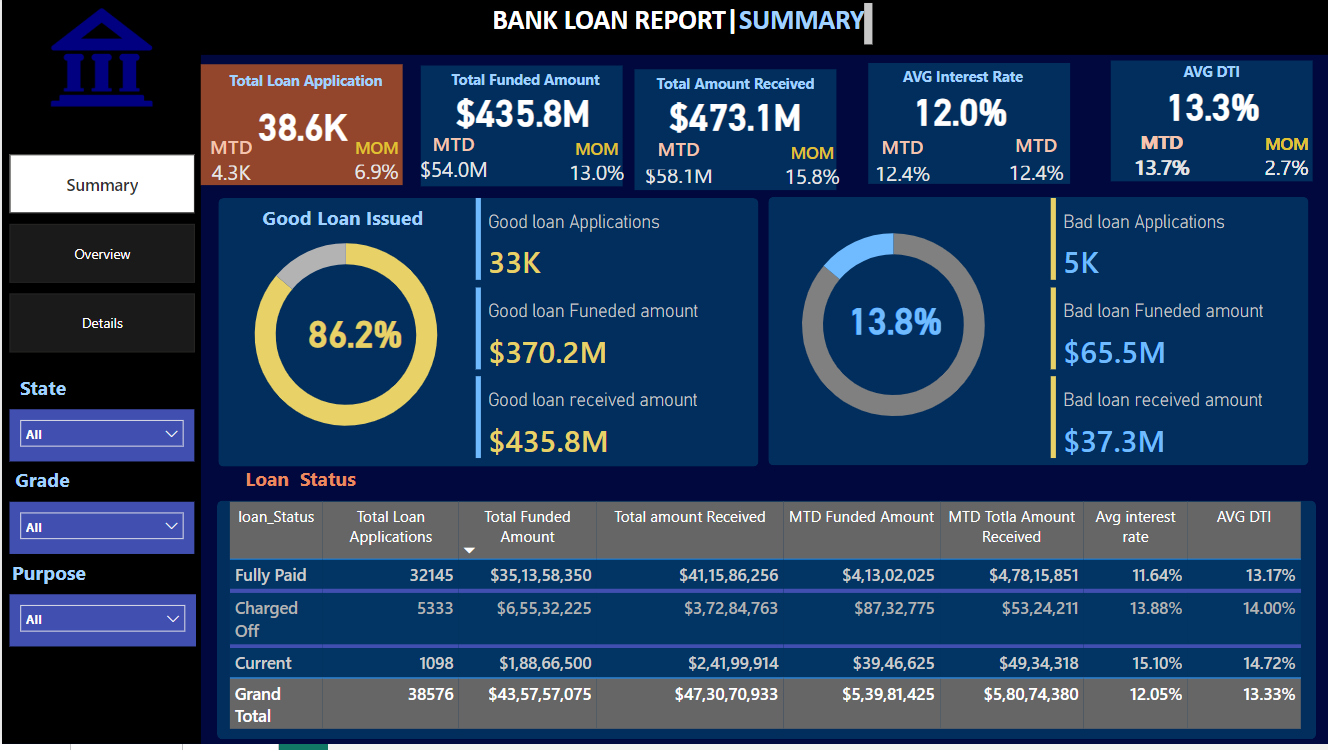

This screenshot's page, from the dashboard's own definition file:
{"tool":"powerbi","page":{"name":"Summary","canvas":[1280,720],"ordinal":0},"visuals":[{"type":"shape","box":[0,54.9,192,665.5],"z":0},{"type":"shape","box":[1070.4,60.4,194.9,116.6],"z":0,"group":"g3"},{"type":"shape","box":[836.2,63.1,194.9,116.6],"z":0,"group":"g4"},{"type":"shape","box":[192.1,64.5,194.9,116.6],"z":0,"group":"g1"},{"type":"shape","box":[404.6,65.8,194.9,116.6],"z":0,"group":"g2"},{"type":"shape","box":[609.9,69.6,194.9,116.6],"z":0,"group":"g5"},{"type":"card","fields":{"Values":["bank_loan_data.AVG DTI"]},"box":[1097.3,54.2,144.1,97.4],"z":1000,"group":"g3"},{"type":"card","fields":{"Values":["bank_loan_data.Avg interest rate"]},"box":[853.1,59.4,144.1,97.4],"z":1000,"group":"g4"},{"type":"card","fields":{"Values":["bank_loan_data.Total Funded Amount"]},"box":[429.8,59.6,146.8,98.8],"z":1000,"group":"g2"},{"type":"card","fields":{"Values":["bank_loan_data.Total amount Received"]},"box":[634.9,64.5,144.1,97.4],"z":1000,"group":"g5"},{"type":"card","fields":{"Values":["bank_loan_data.Total Loan Applications"]},"box":[218.2,74.1,144.1,97.4],"z":1000,"group":"g1"},{"type":"shape","box":[208.6,193.5,521.4,259.3],"z":1000},{"type":"textbox","box":[1055.8,57.1,223.7,37],"z":2000,"group":"g3"},{"type":"textbox","box":[815.7,61.6,223.7,37],"z":2000,"group":"g4"},{"type":"textbox","box":[393.9,64.6,223.7,37],"z":2000,"group":"g2"},{"type":"textbox","box":[193.3,65.2,200.3,41.2],"z":2000,"group":"g1"},{"type":"textbox","box":[595.5,68.6,223.7,37],"z":2000,"group":"g5"},{"type":"cardVisual","fields":{"Data":["bank_loan_data.Good loan Applications","bank_loan_data.Good loan Funeded amount","bank_loan_data.Good loan received amount"]},"box":[452.8,188,270.3,262.1],"z":2000},{"type":"card","title":"MTD","fields":{"Values":["bank_loan_data.MTD avg DTI"]},"box":[1070.6,125.7,97.4,50.8],"z":3000,"group":"g6"},{"type":"card","title":"MTD","fields":{"Values":["bank_loan_data.MTD avg DTI"]},"box":[1070.9,125.7,97.4,50.8],"z":3000,"group":"g3"},{"type":"card","title":"MTD","fields":{"Values":["bank_loan_data.MTD Funded Amount"]},"box":[397.2,128.8,78.2,53.5],"z":3000,"group":"g2"},{"type":"card","title":"MTD","fields":{"Values":["bank_loan_data.MTD avg interest rate"]},"box":[829.8,130.2,78.2,49.4],"z":3000,"group":"g4"},{"type":"card","title":"MTD","fields":{"Values":["bank_loan_data.MTD loan Apllications"]},"box":[192.1,130.4,59,50.8],"z":3000,"group":"g1"},{"type":"shape","box":[207.2,484.4,1060.7,230.5],"z":3000},{"type":"card","title":"MOM","fields":{"Values":["bank_loan_data.MOM avg Dti"]},"box":[1203.2,129,74.1,48],"z":4000,"group":"g6"},{"type":"card","title":"MOM","fields":{"Values":["bank_loan_data.MOM avg Dti"]},"box":[1203.5,129,74.1,48],"z":4000,"group":"g3"},{"type":"card","title":"MOM","fields":{"Values":["bank_loan_data.MOM Loan Apllication"]},"box":[325.2,133.1,74.1,48],"z":4000,"group":"g1"},{"type":"card","title":"MOM","fields":{"Values":["bank_loan_data.MOM Total Funded  amount"]},"box":[537.7,134.4,74.1,48],"z":4000,"group":"g2"},{"type":"card","title":"MOM","fields":{"Values":["bank_loan_data.MOM Total amount received"]},"box":[739.7,138.5,82.3,48],"z":4000,"group":"g5"},{"type":"shape","box":[739.6,192.1,521.4,259.3],"z":4000},{"type":"donutChart","fields":{"Category":["bank_loan_data.Good vs Bad loan"],"Y":["bank_loan_data.Total Loan Applications"]},"box":[207.9,209.5,249.2,230.2],"z":5000},{"type":"donutChart","fields":{"Category":["bank_loan_data.Good vs Bad loan"],"Y":["bank_loan_data.Total Loan Applications"]},"box":[723.2,200.3,275.8,230.5],"z":6000},{"type":"shape","box":[0,0,1280.3,54.9],"z":7000},{"type":"textbox","box":[208.6,446,153.7,38.4],"z":8000},{"type":"card","fields":{"Values":["bank_loan_data.bad loan %"]},"box":[790.4,260.7,144.1,97.4],"z":9000},{"type":"textbox","box":[467.9,0,377.4,54.9],"z":10000},{"type":"group","id":"g1","title":"Group 1","box":[192.1,64.5,207.2,116.6],"z":11000},{"type":"tableEx","fields":{"Values":["bank_loan_data.loan_status","bank_loan_data.Total Loan Applications","bank_loan_data.Total Funded Amount","bank_loan_data.Total amount Received","bank_loan_data.MTD Funded Amount","bank_loan_data.MTD Totla Amount  Received","bank_loan_data.Avg interest rate","bank_loan_data.AVG DTI"]},"box":[214.1,481.6,1049.7,233.3],"z":12000},{"type":"group","id":"g2","title":"Group 1","box":[393.9,59.6,223.7,122.9],"z":13000},{"type":"group","id":"g3","title":"Group 1","box":[1055.8,54.2,223.7,122.8],"z":14000},{"type":"group","id":"g4","title":"Group 1","box":[815.7,59.4,223.7,120.3],"z":15000},{"type":"group","id":"g5","title":"Group 1","box":[595.5,64.5,226.6,122.1],"z":16000},{"type":"card","title":"MTD","fields":{"Values":["bank_loan_data.MTD avg interest rate"]},"box":[959.2,129,78.2,49.4],"z":17000},{"type":"group","id":"g6","title":"Group 1","box":[1070.6,125.7,206.7,51.3],"z":18000},{"type":"card","fields":{"Values":["bank_loan_data.good loan %"]},"box":[269,273.1,144.1,97.4],"z":19000},{"type":"card","title":"MTD","fields":{"Values":["bank_loan_data.MTD Totla Amount  Received"]},"box":[608.5,133.8,87.8,49.4],"z":20000,"group":"g5"},{"type":"cardVisual","fields":{"Data":["bank_loan_data.Bad loan Applications","bank_loan_data.Bad loan Funeded amount","bank_loan_data.Bad loan received amount"]},"box":[1007.2,188,270.3,262.1],"z":20000},{"type":"textbox","box":[217.5,193.7,223.8,38.1],"z":21000},{"type":"slicer","fields":{"Values":["bank_loan_data.address_state"]},"box":[6.9,396.6,178.4,50.8],"z":22000},{"type":"textbox","box":[1.4,358.1,76.8,38.4],"z":23000},{"type":"slicer","fields":{"Values":["bank_loan_data.purpose"]},"box":[6.9,575,179.8,50.8],"z":24000},{"type":"slicer","fields":{"Values":["bank_loan_data.grade"]},"box":[6.9,485.8,178.4,50.8],"z":25000},{"type":"textbox","box":[0,447.3,78.2,38.4],"z":26000},{"type":"textbox","box":[0,536.5,90.6,38.4],"z":27000},{"type":"pageNavigator","box":[6.9,150.9,179.8,192.1],"z":28000},{"type":"image","box":[42.5,2.7,108.4,109.8],"z":29000}]}

Visuals, with their boxes in screenshot pixels (x1, y1, x2, y2), scaled from the page's 1280x720 canvas onto the 1328x750 screenshot:
shape: select_region(0, 57, 199, 749)
shape: select_region(1111, 63, 1313, 184)
shape: select_region(868, 66, 1070, 187)
shape: select_region(199, 67, 402, 189)
shape: select_region(420, 69, 622, 190)
shape: select_region(633, 72, 835, 194)
card - bank_loan_data.AVG DTI: select_region(1138, 56, 1288, 158)
card - bank_loan_data.Avg interest rate: select_region(885, 62, 1035, 163)
card - bank_loan_data.Total Funded Amount: select_region(446, 62, 598, 165)
card - bank_loan_data.Total amount Received: select_region(659, 67, 808, 169)
card - bank_loan_data.Total Loan Applications: select_region(226, 77, 376, 179)
shape: select_region(216, 202, 757, 472)
textbox: select_region(1095, 59, 1327, 98)
textbox: select_region(846, 64, 1078, 103)
textbox: select_region(409, 67, 641, 106)
textbox: select_region(201, 68, 408, 111)
textbox: select_region(618, 71, 850, 110)
cardVisual - bank_loan_data.Good loan Applications x bank_loan_data.Good loan Funeded amount: select_region(470, 196, 750, 469)
"MTD" card: select_region(1111, 131, 1212, 184)
"MTD" card: select_region(1111, 131, 1212, 184)
"MTD" card: select_region(412, 134, 493, 190)
"MTD" card: select_region(861, 136, 942, 187)
"MTD" card: select_region(199, 136, 261, 189)
shape: select_region(215, 505, 1315, 745)
"MOM" card: select_region(1248, 134, 1325, 184)
"MOM" card: select_region(1249, 134, 1326, 184)
"MOM" card: select_region(337, 139, 414, 189)
"MOM" card: select_region(558, 140, 635, 190)
"MOM" card: select_region(767, 144, 853, 194)
shape: select_region(767, 200, 1308, 470)
donutChart - bank_loan_data.Good vs Bad loan x bank_loan_data.Total Loan Applications: select_region(216, 218, 474, 458)
donutChart - bank_loan_data.Good vs Bad loan x bank_loan_data.Total Loan Applications: select_region(750, 209, 1036, 449)
shape: select_region(0, 0, 1327, 57)
textbox: select_region(216, 465, 376, 505)
card - bank_loan_data.bad loan %: select_region(820, 272, 970, 373)
textbox: select_region(485, 0, 877, 57)
"Group 1" group: select_region(199, 67, 414, 189)
tableEx - bank_loan_data.loan_status x bank_loan_data.Total Loan Applications: select_region(222, 502, 1311, 745)
"Group 1" group: select_region(409, 62, 641, 190)
"Group 1" group: select_region(1095, 56, 1327, 184)
"Group 1" group: select_region(846, 62, 1078, 187)
"Group 1" group: select_region(618, 67, 853, 194)
"MTD" card: select_region(995, 134, 1076, 186)
"Group 1" group: select_region(1111, 131, 1325, 184)
card - bank_loan_data.good loan %: select_region(279, 284, 429, 386)
"MTD" card: select_region(631, 139, 722, 191)
cardVisual - bank_loan_data.Bad loan Applications x bank_loan_data.Bad loan Funeded amount: select_region(1045, 196, 1325, 469)
textbox: select_region(226, 202, 458, 241)
slicer - bank_loan_data.address_state: select_region(7, 413, 192, 466)
textbox: select_region(1, 373, 81, 413)
slicer - bank_loan_data.purpose: select_region(7, 599, 194, 652)
slicer - bank_loan_data.grade: select_region(7, 506, 192, 559)
textbox: select_region(0, 466, 81, 506)
textbox: select_region(0, 559, 94, 599)
pageNavigator: select_region(7, 157, 194, 357)
image: select_region(44, 3, 157, 117)
